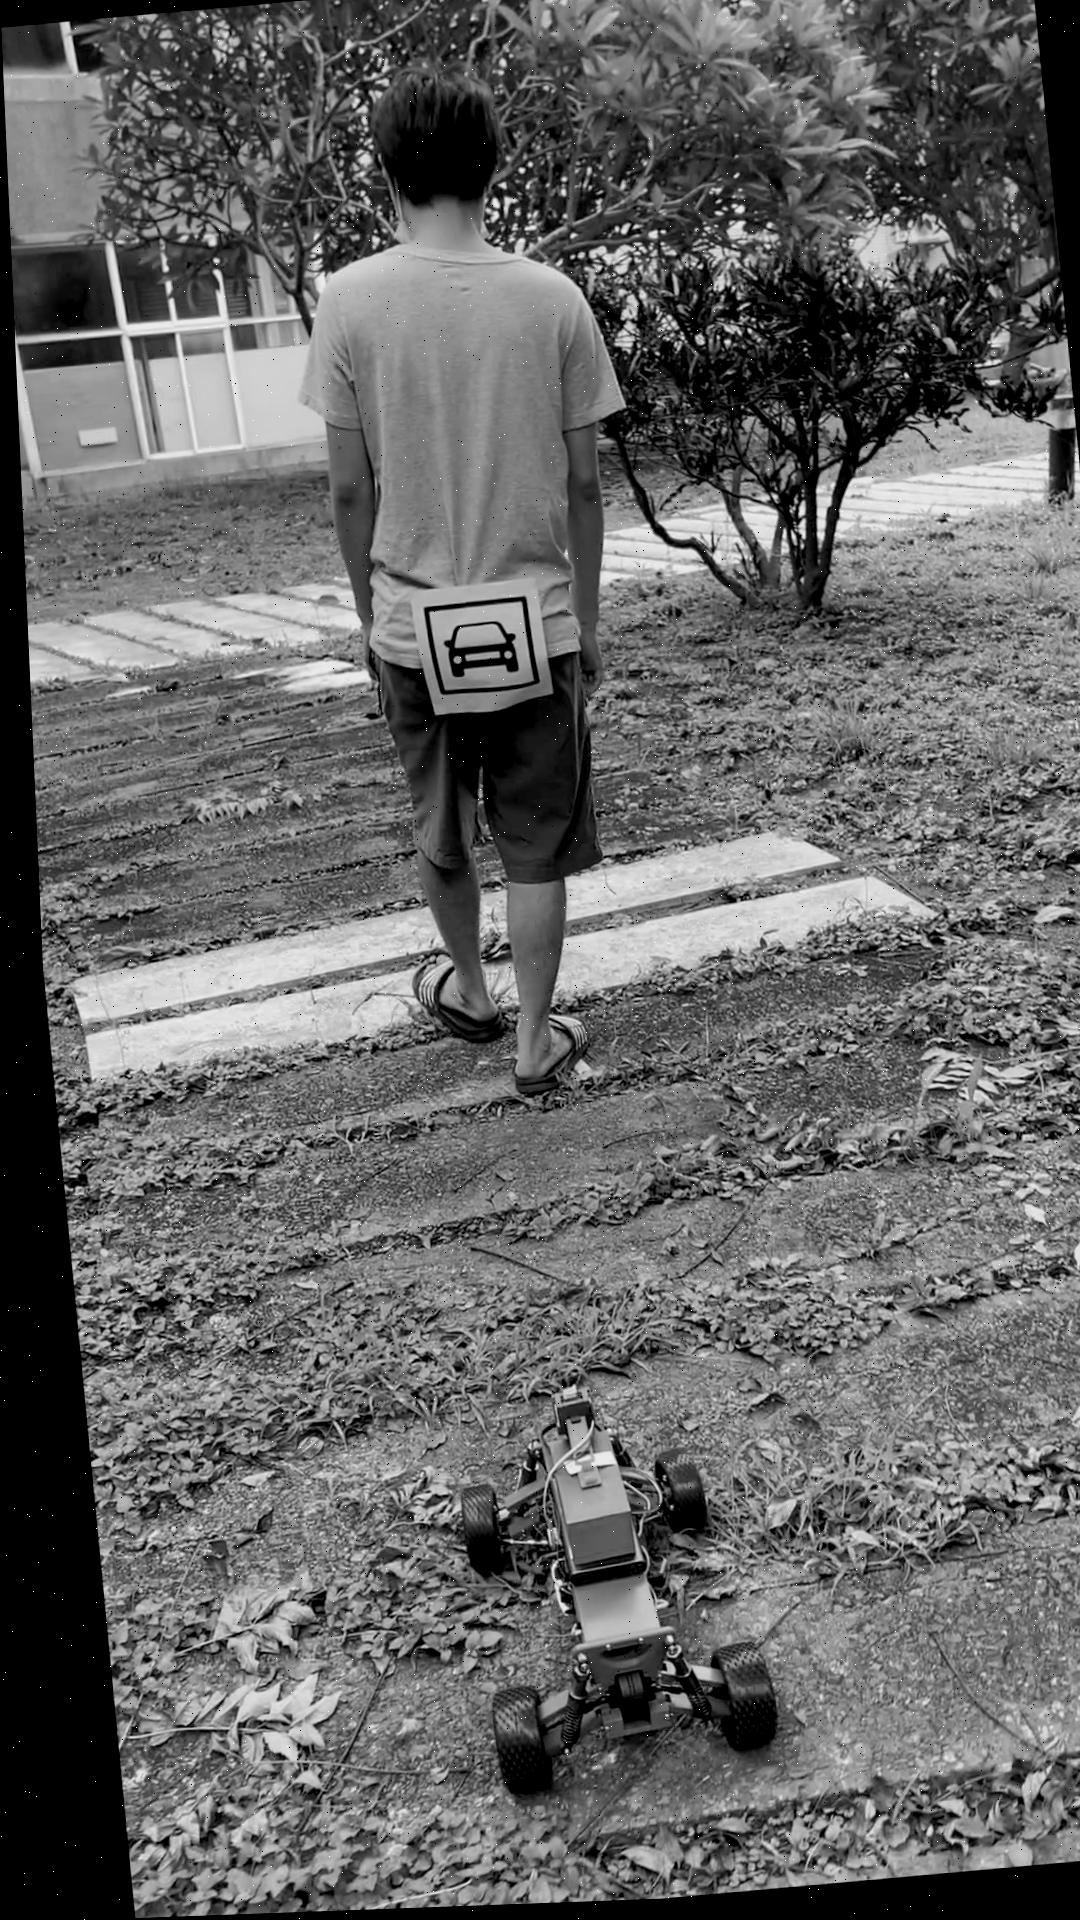car_img: (415, 597, 534, 700)
